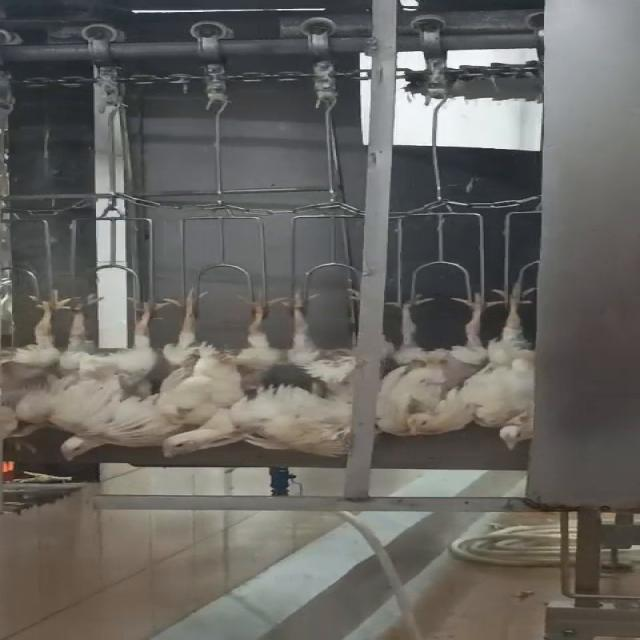chicken: (156, 288, 278, 463), (57, 289, 171, 466), (372, 289, 478, 439), (272, 286, 355, 459), (478, 272, 550, 448), (0, 294, 72, 442)
